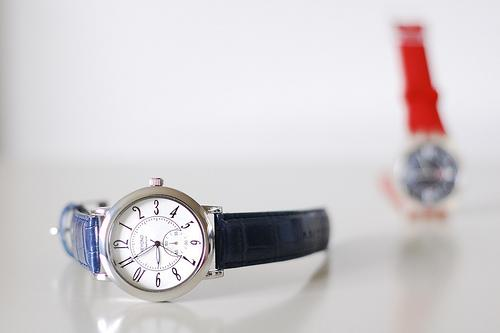watch: (92, 178, 229, 312), (386, 127, 475, 218)
